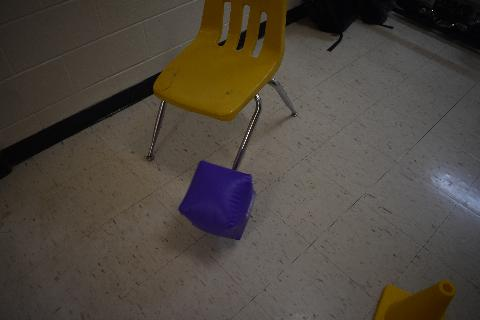cone: (374, 278, 456, 320)
cube: (178, 160, 258, 242)
